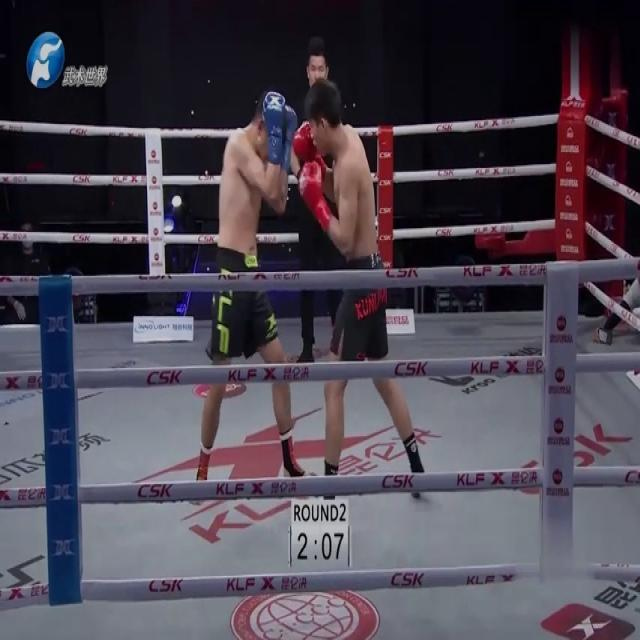fight: (195, 83, 425, 485)
non-fight: (599, 253, 639, 348)
